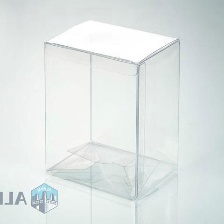plastic_box: (36, 13, 189, 207)
